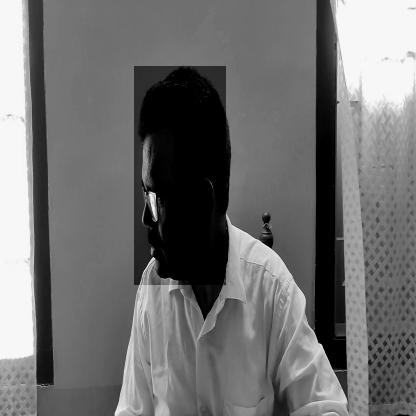Distracted: (134, 66, 226, 285)
